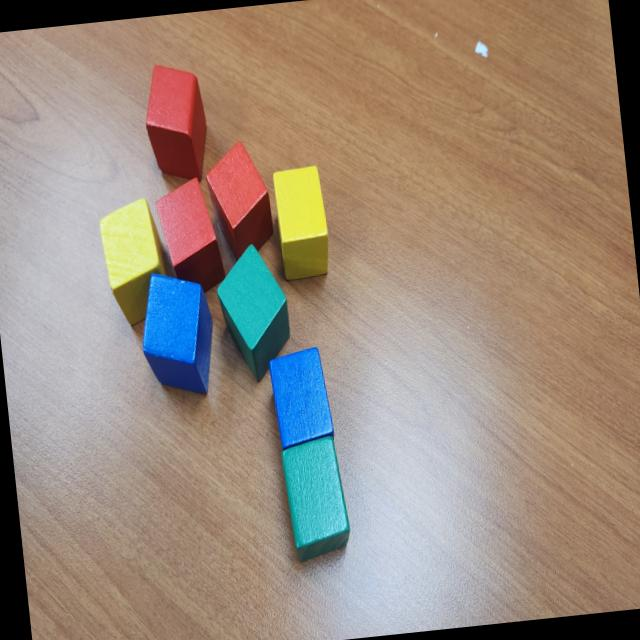blue: (134, 266, 220, 401), (266, 345, 334, 450)
green: (211, 238, 295, 384), (278, 432, 353, 563)
red: (201, 137, 276, 260), (140, 60, 212, 188), (152, 175, 226, 296)
yellow: (96, 195, 170, 328), (271, 166, 333, 282)
